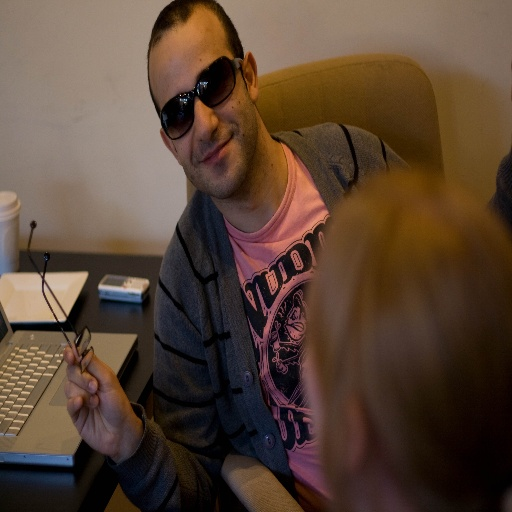hand: (62, 341, 133, 456)
